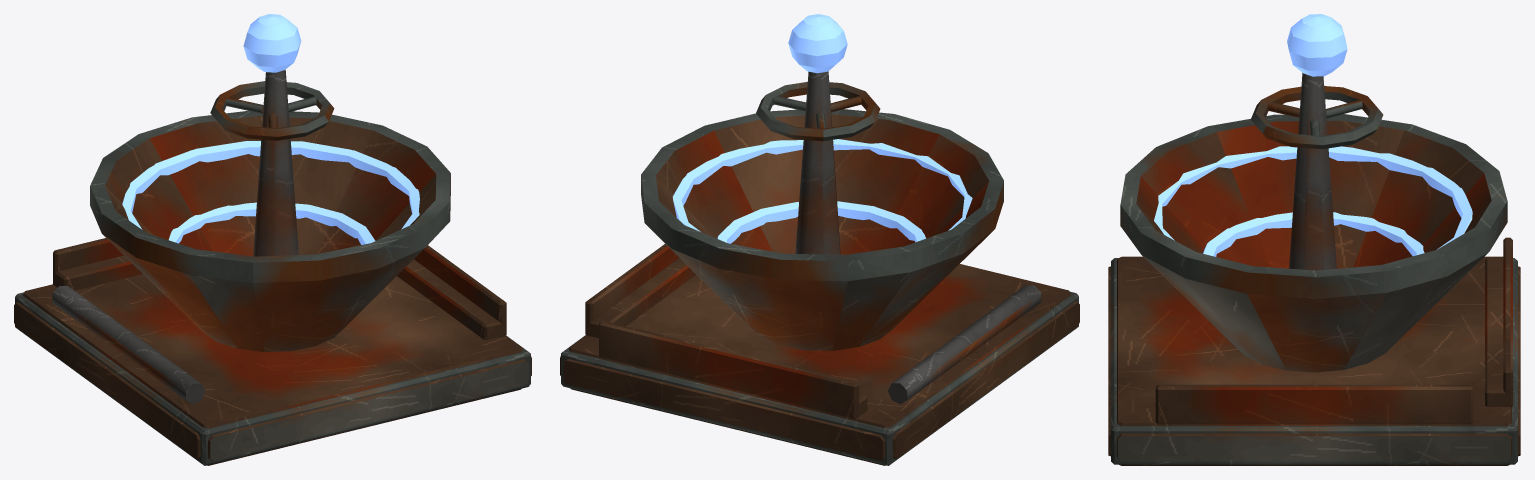
Rendered from R4X_ScannerPulse.glb.
The picture shows the model from 3 angles, left to right: view 1: azimuth 30°, elevation 25°; view 2: azimuth 150°, elevation 25°; view 3: azimuth 270°, elevation 25°; orthographic projection. The views are drawn at different scales.
Parts seen in each view (by area): view 1: R4X_ScannerPulse_Body; view 2: R4X_ScannerPulse_Body; view 3: R4X_ScannerPulse_Body.
Part boxes in pixels (<box>): R4X_ScannerPulse_Body: <box>14,14,531,465</box>; R4X_ScannerPulse_Body: <box>560,14,1079,465</box>; R4X_ScannerPulse_Body: <box>1108,14,1520,465</box>.
Size of the model in its own units: 0.52 by 0.51 by 0.52.
5 materials, 4 textured.
